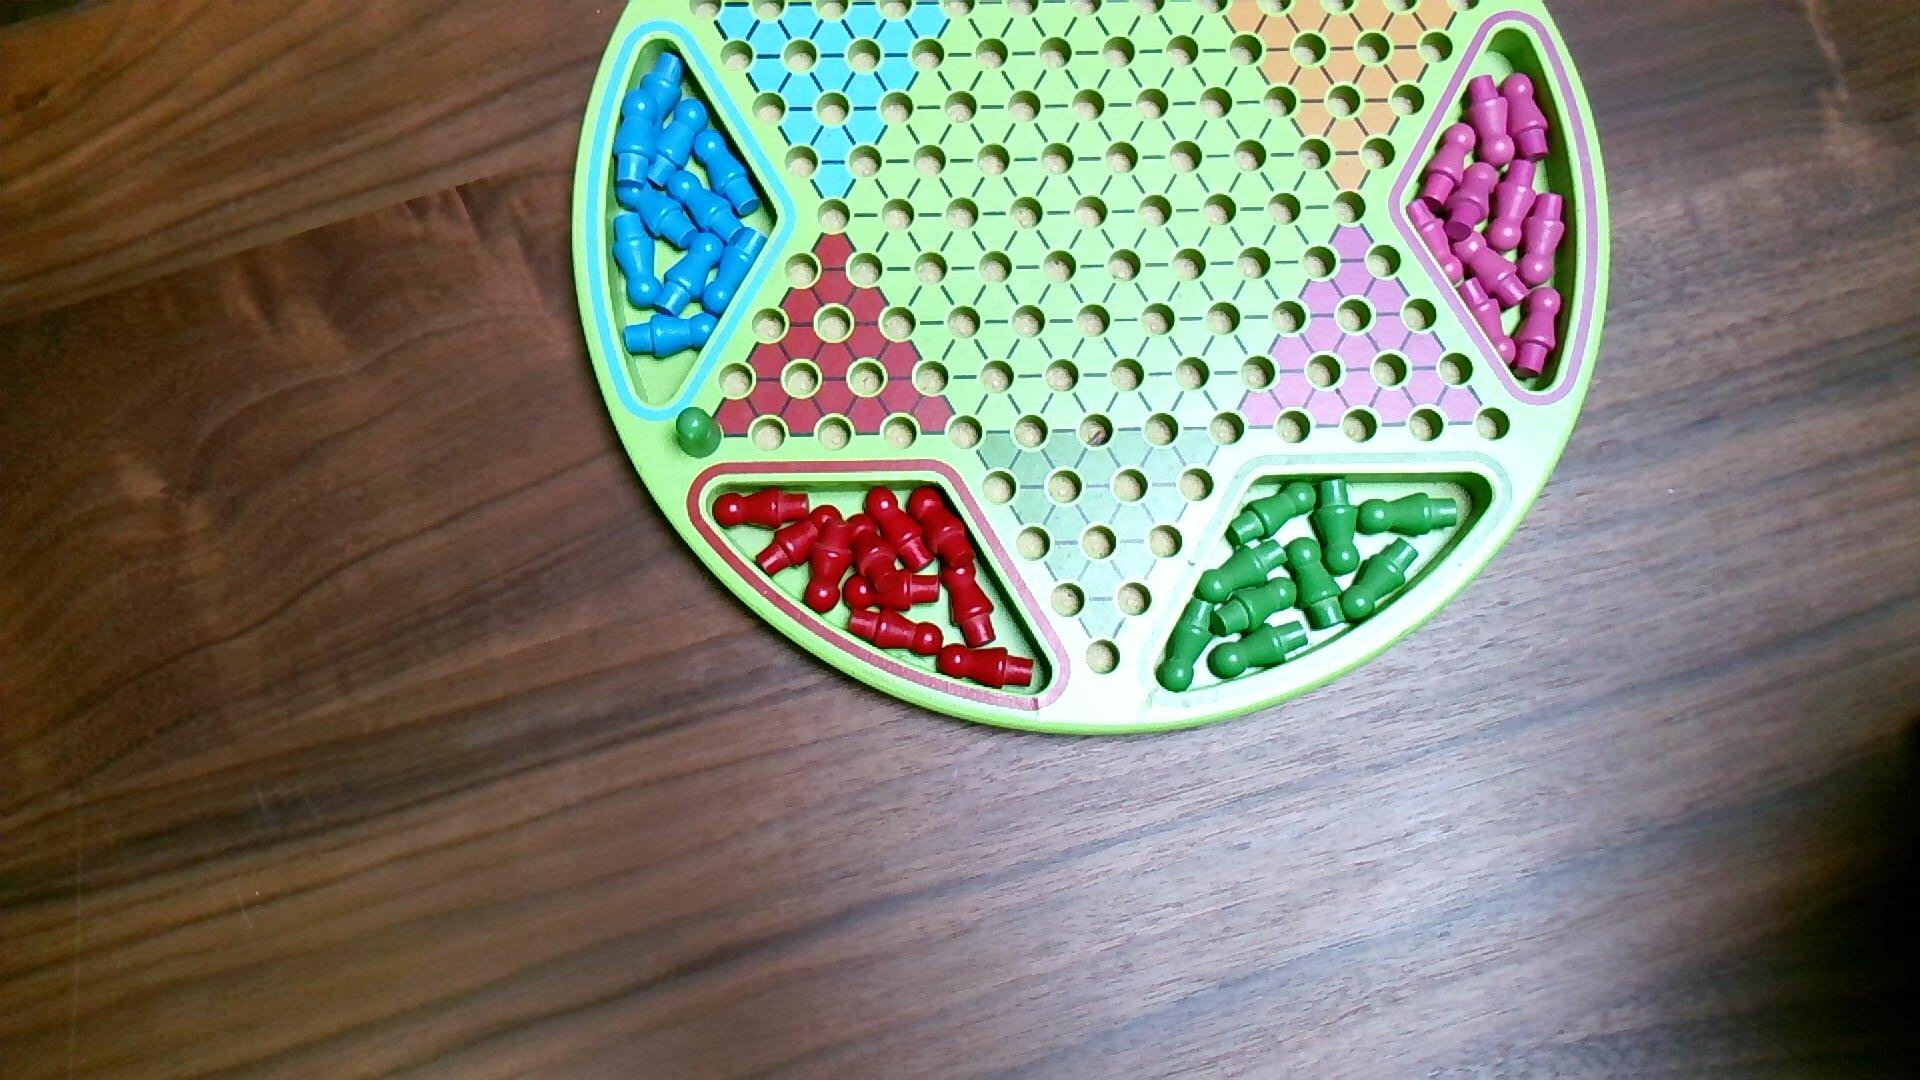G: (673, 405, 727, 462)
